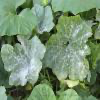Squash Powdery mildew leaf: (41, 13, 94, 83), (0, 33, 47, 88), (32, 3, 56, 35)
